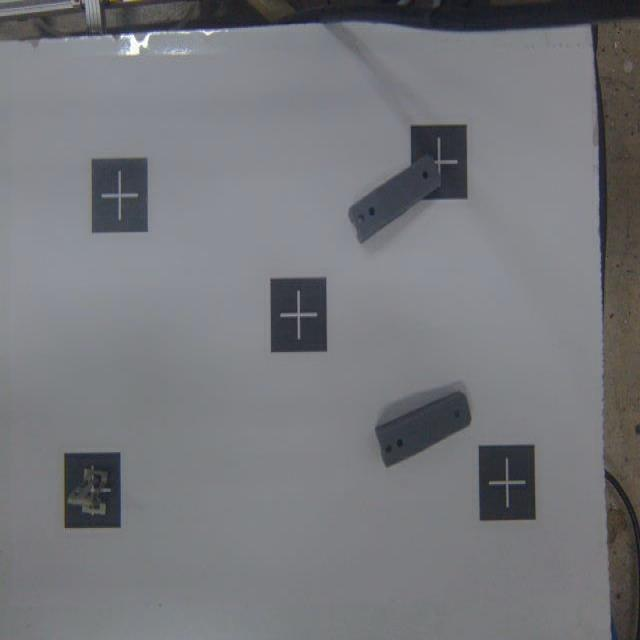pick4: (64, 454, 120, 528)
